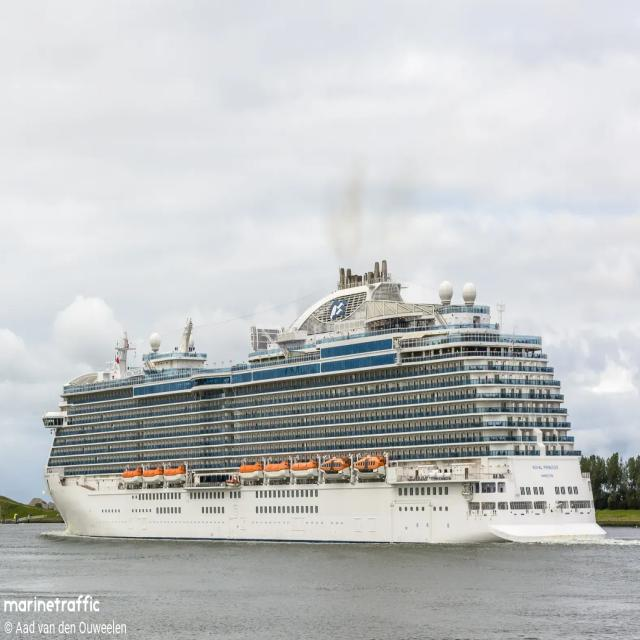Cruise: (42, 261, 605, 542)
